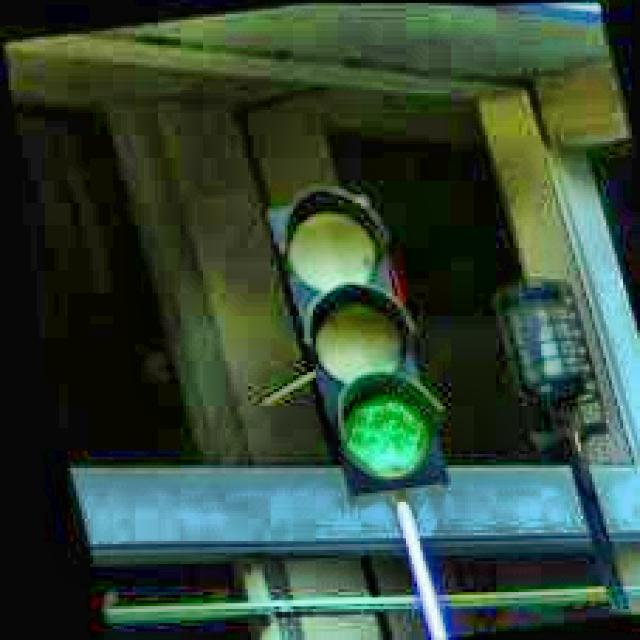green: (255, 177, 455, 500)
